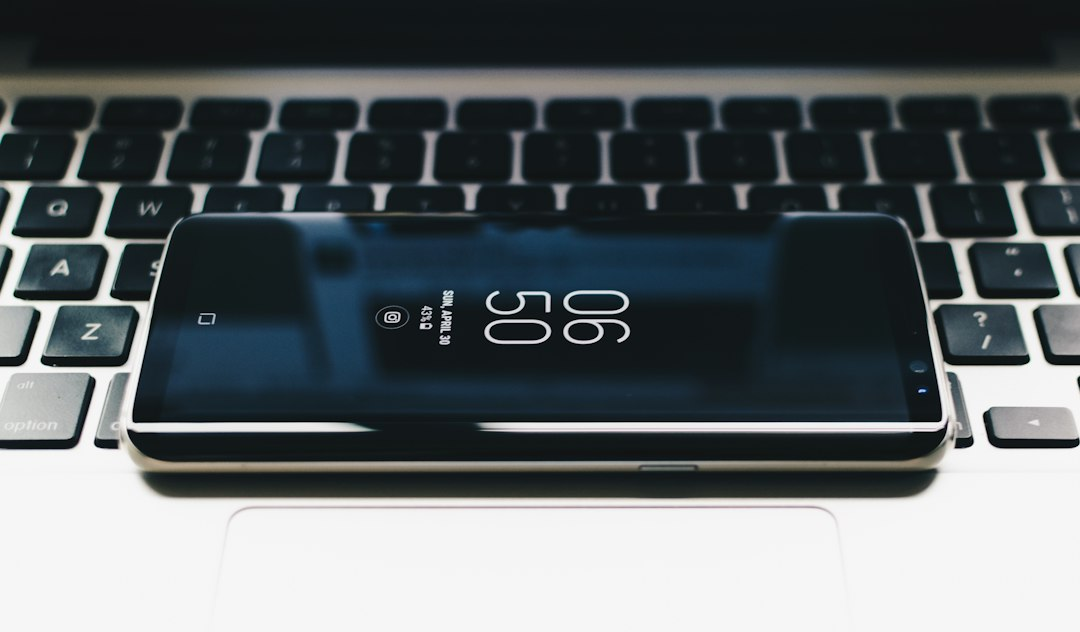phone: (120, 214, 958, 488)
